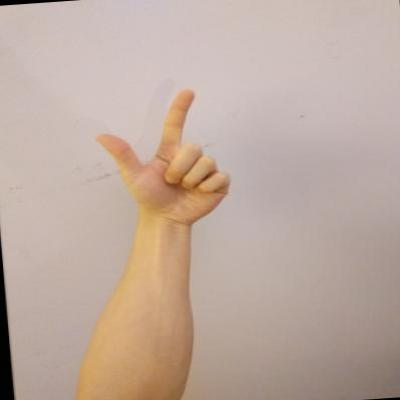hand: (88, 84, 238, 232)
